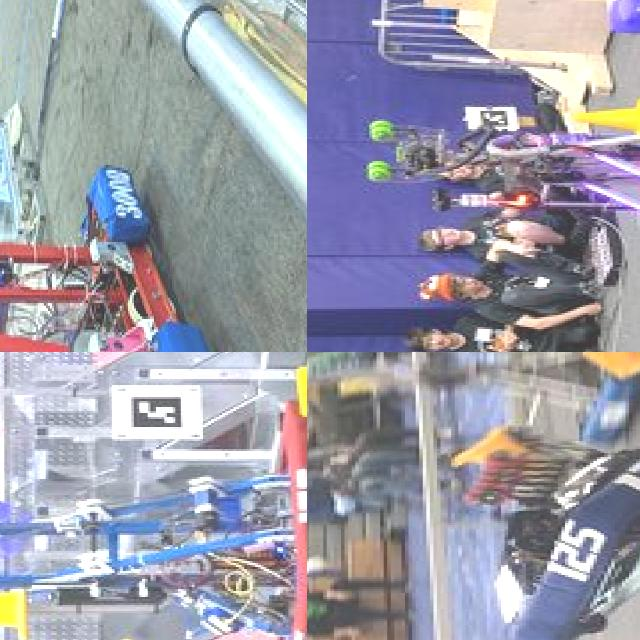FRC-Robots: (376, 35, 640, 329), (0, 411, 307, 640), (0, 114, 244, 352), (436, 405, 640, 640), (451, 352, 640, 434)
